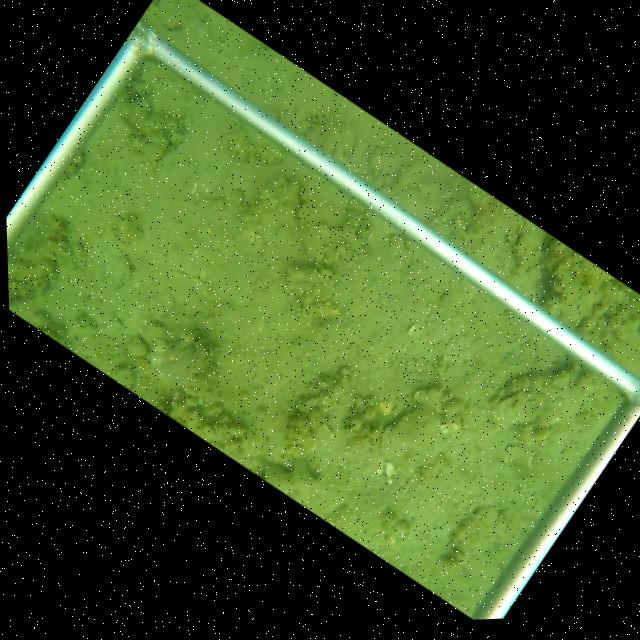Oyster-Indeterminate: (378, 401, 448, 473), (514, 229, 541, 272)
Oyster-Open: (488, 381, 527, 419)
